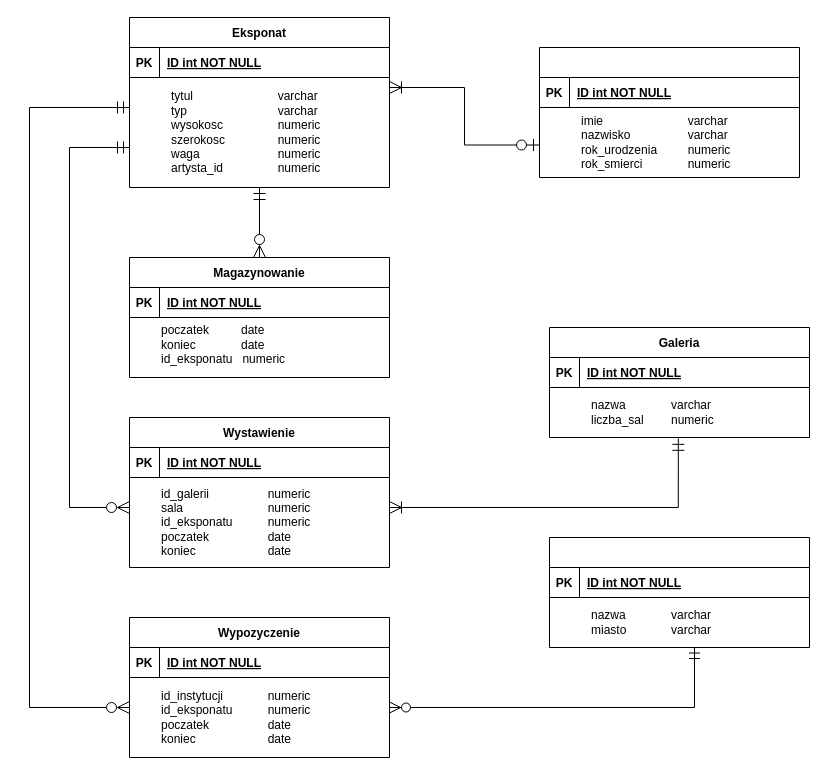
The diagram is 827 pixels wide and 775 high, and some of its shapes have lost their labels. The shapes that lost their labels are listed below. From the top down, each one's box as (x1, y1, x2, y2) in pixels, then its label:
(538, 46, 800, 178): Artysta
(548, 536, 810, 648): Instytucja
